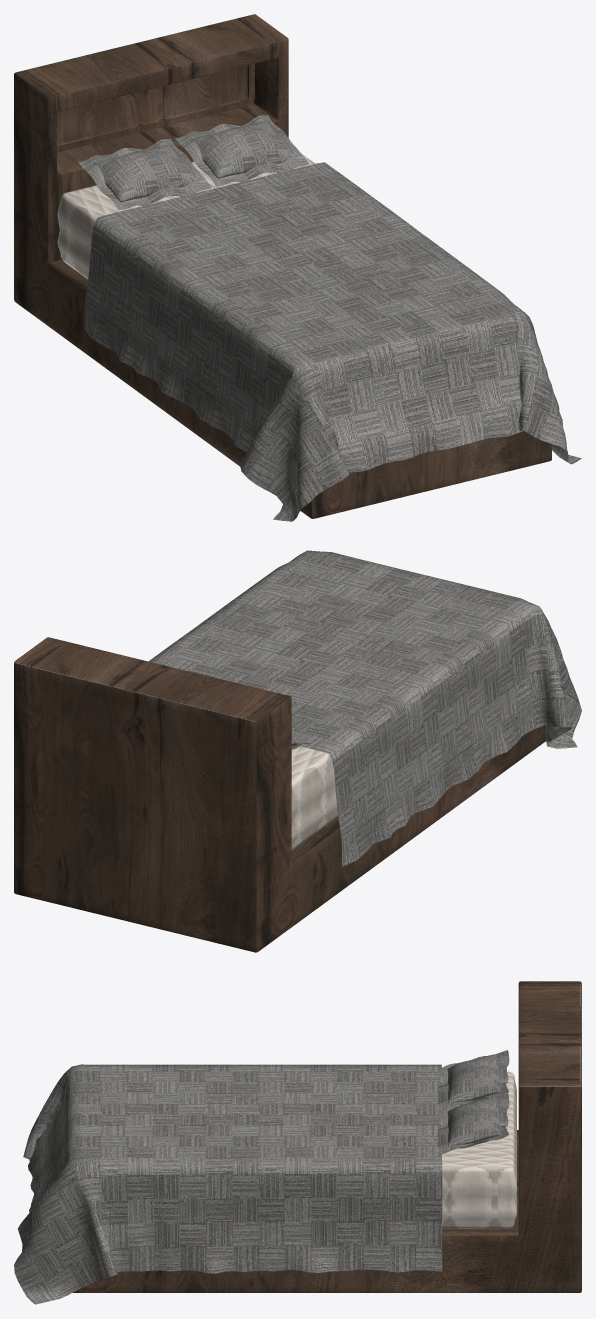
The model's file is Bed_SOS.fbx.
The picture shows the model from 3 angles, top to bottom: view 1: azimuth 30°, elevation 25°; view 2: azimuth 150°, elevation 25°; view 3: azimuth 270°, elevation 25°; orthographic projection. The views are drawn at different scales.
Parts seen in each view (by area): view 1: Plane001, Box001, Box002, Box004, Box003, Plane002, Plane003; view 2: Box001, Plane001, Box002; view 3: Plane001, Box001, Box002, Box003, Box004, Plane002, Plane003.
Boxes of the visible parts, box(x1,y1,x2,y2) form: Plane001: box(84, 162, 581, 521); Box001: box(14, 14, 551, 518); Box002: box(57, 153, 314, 279); Box004: box(94, 144, 199, 202); Box003: box(191, 121, 296, 178); Plane002: box(175, 115, 309, 186); Plane003: box(78, 139, 211, 209); Box001: box(14, 637, 546, 952); Plane001: box(148, 550, 581, 866); Box002: box(291, 746, 338, 850); Plane001: box(14, 1064, 442, 1304); Box001: box(72, 981, 581, 1292); Box002: box(442, 1071, 516, 1228); Box003: box(447, 1097, 500, 1148); Box004: box(447, 1054, 500, 1105); Plane002: box(436, 1093, 509, 1154); Plane003: box(437, 1050, 509, 1111).
Size of the model in its own units: 1439 by 1000 by 2487.
